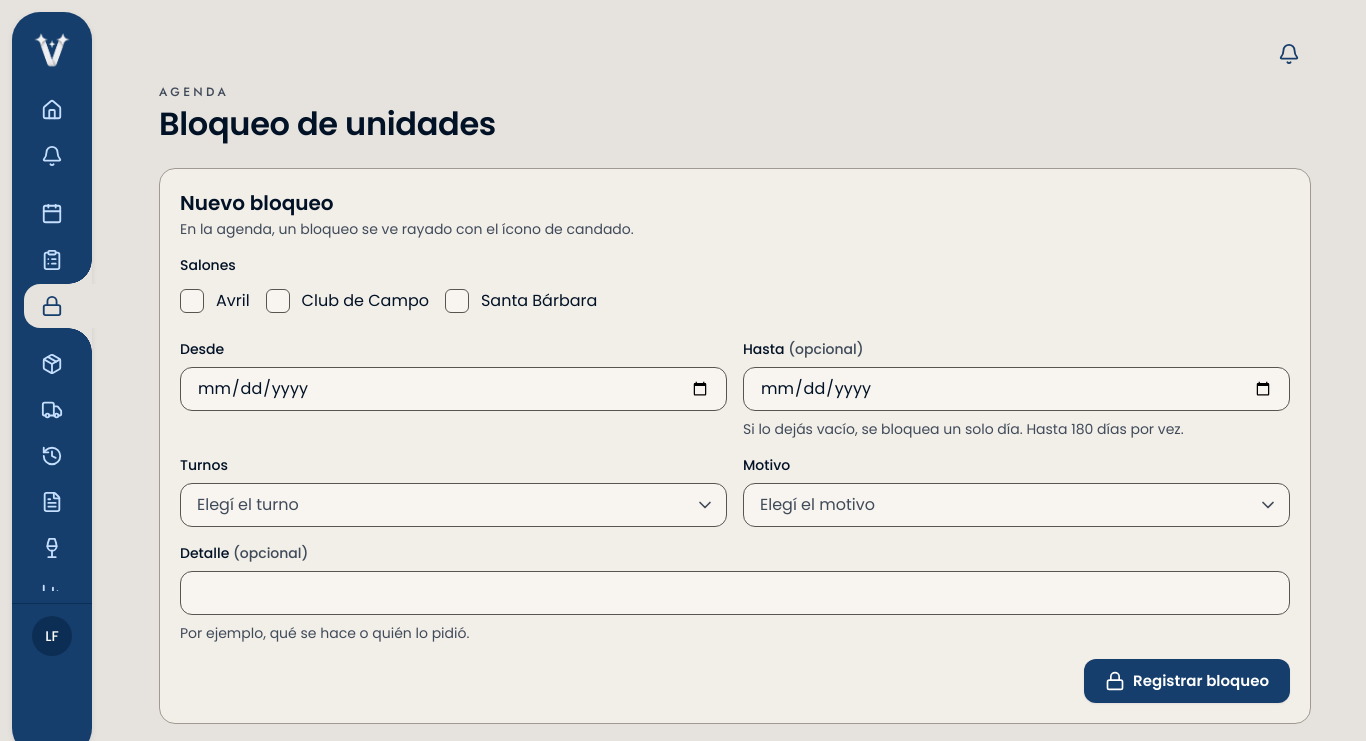
it: UI-21 · bloqueo de unidades › registra el bloqueo, avisa y actualiza la lista
Click the checkbox labelled "Club de Campo".
click(278, 301)  # box [266,289,290,313]
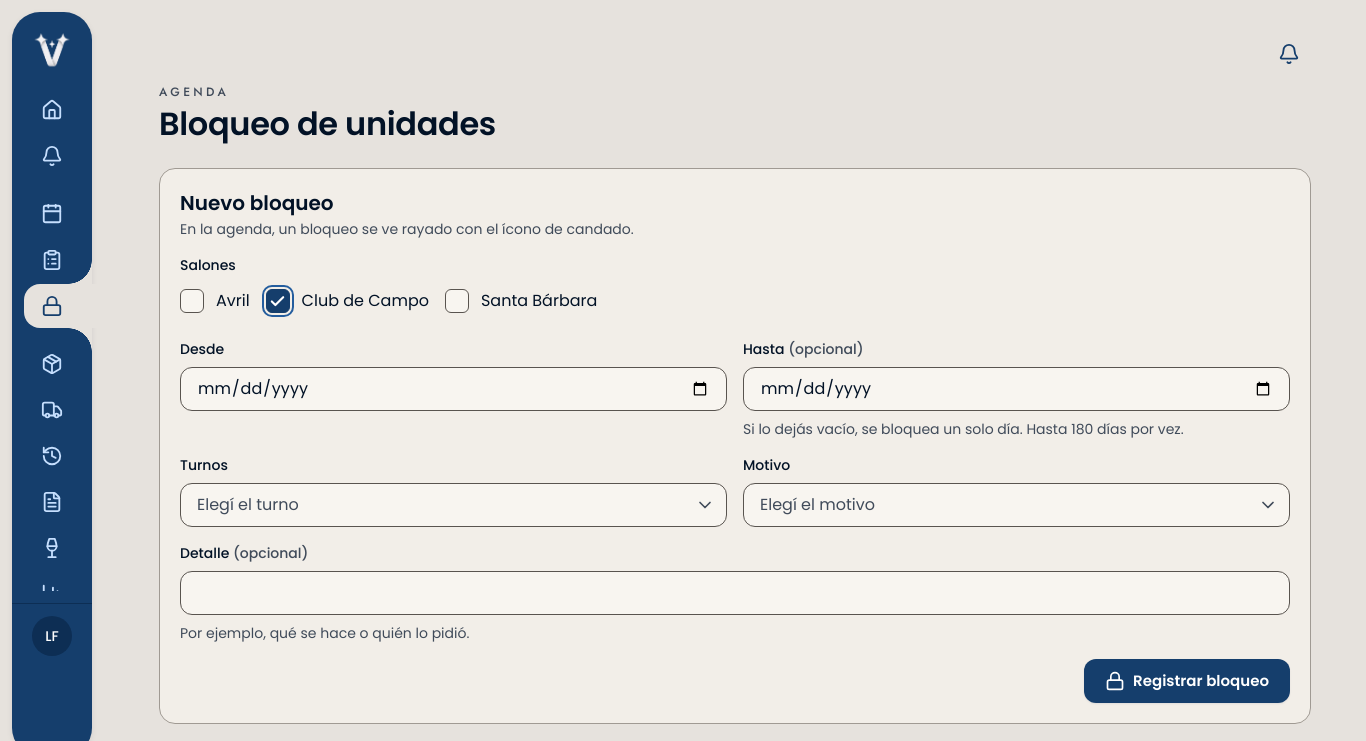
Type "2033-04-04" into the date field labelled "Desde".
click(454, 389); type("2033-04-04")  # box [180,367,727,411]
Type "2033-04-08" into the date field labelled "Hasta (opcional)".
click(1016, 389); type("2033-04-08")  # box [743,367,1290,411]
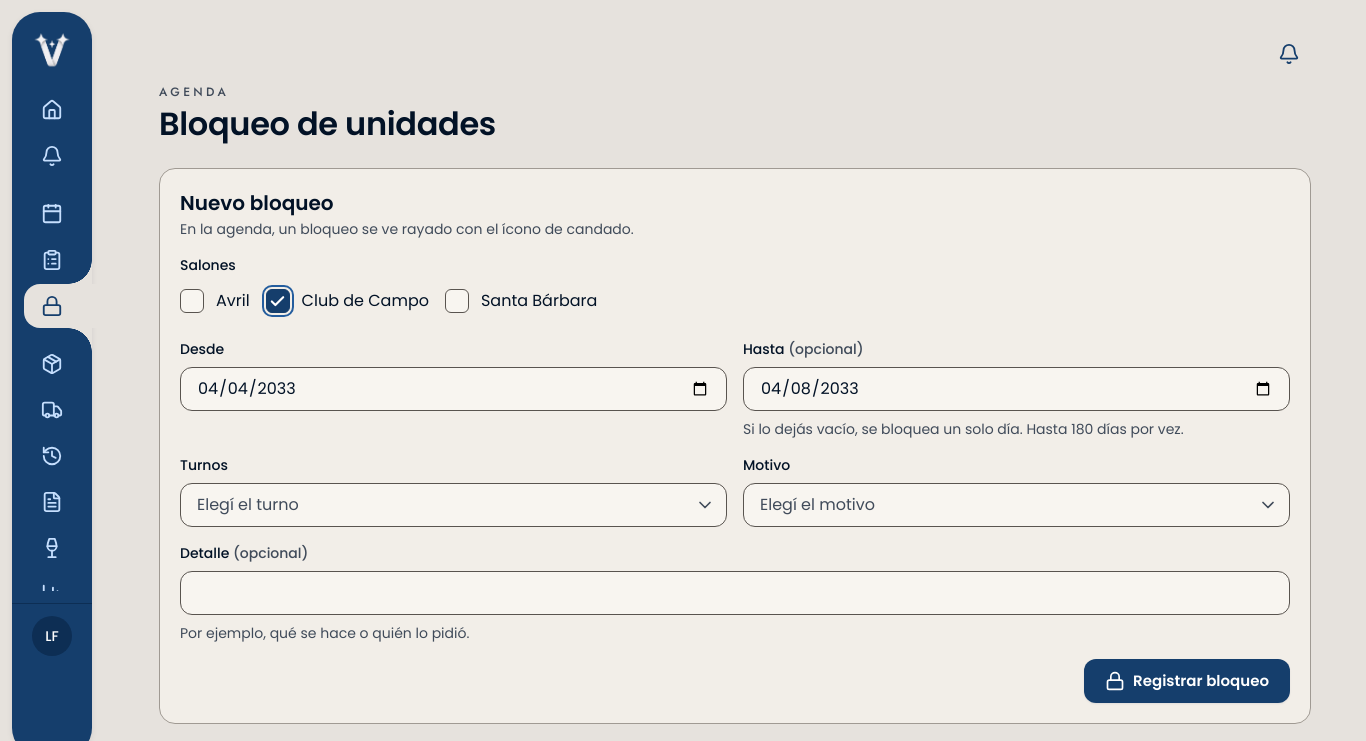
Select "Ambos" in the dropdown labelled "Turnos" at (454, 505), box [180,483,727,527]
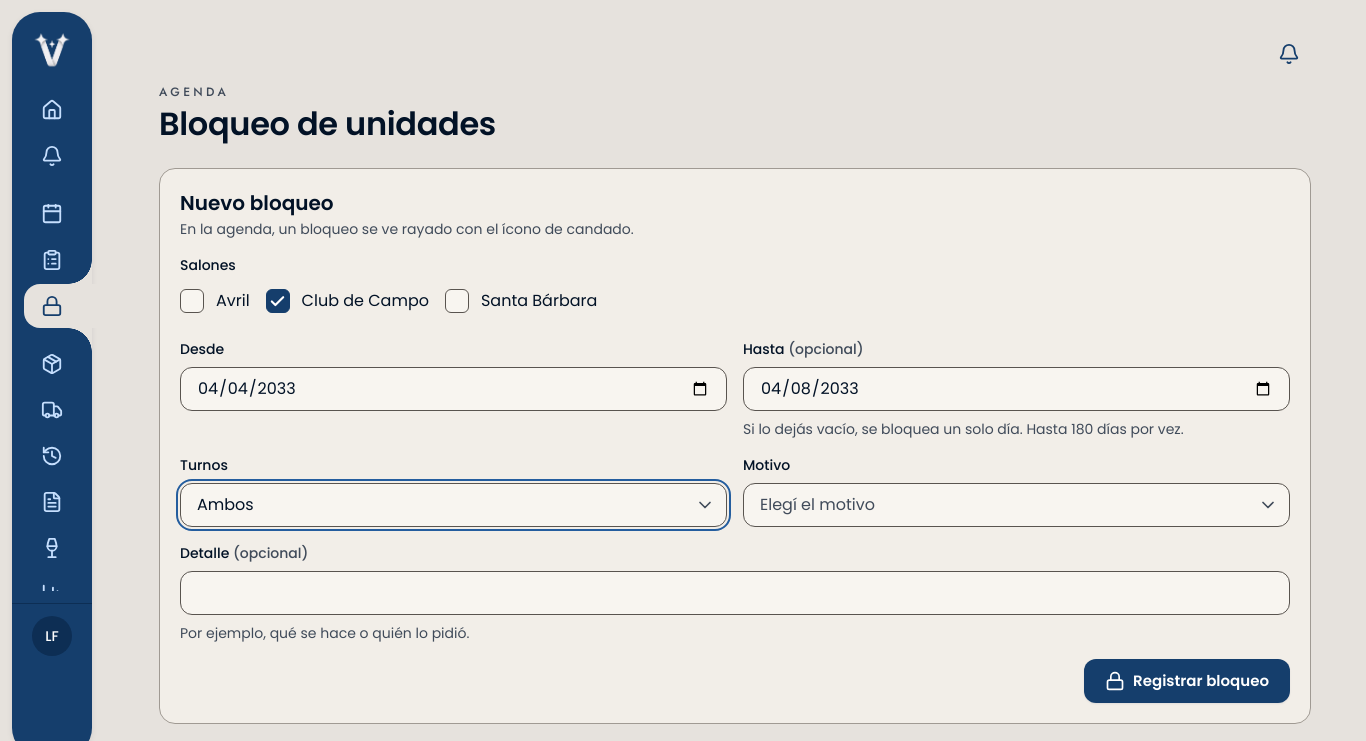
Select "Mantenimiento" in the dropdown labelled "Motivo" at (1016, 505), box [743,483,1290,527]
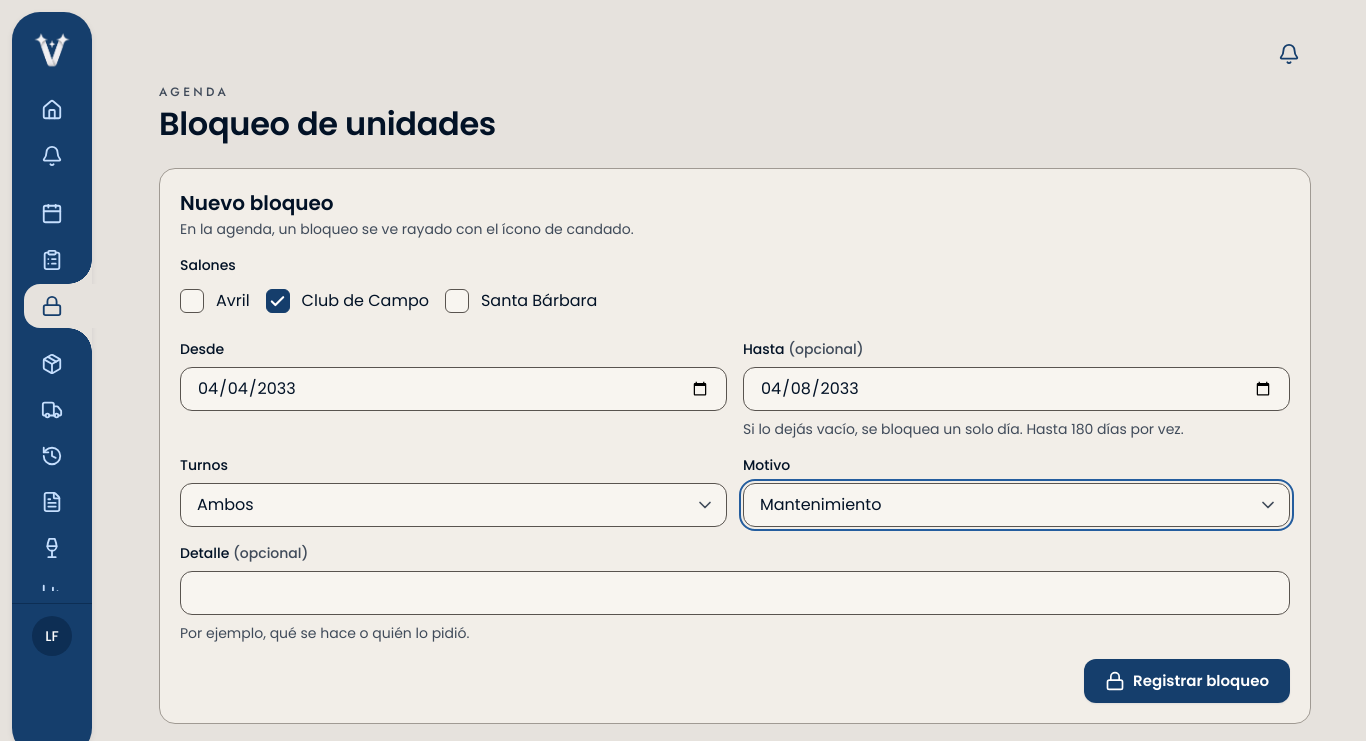
Type "  Pintura  " into the field labelled "Detalle (opcional)".
click(735, 593); type("  Pintura  ")  # box [180,571,1290,615]
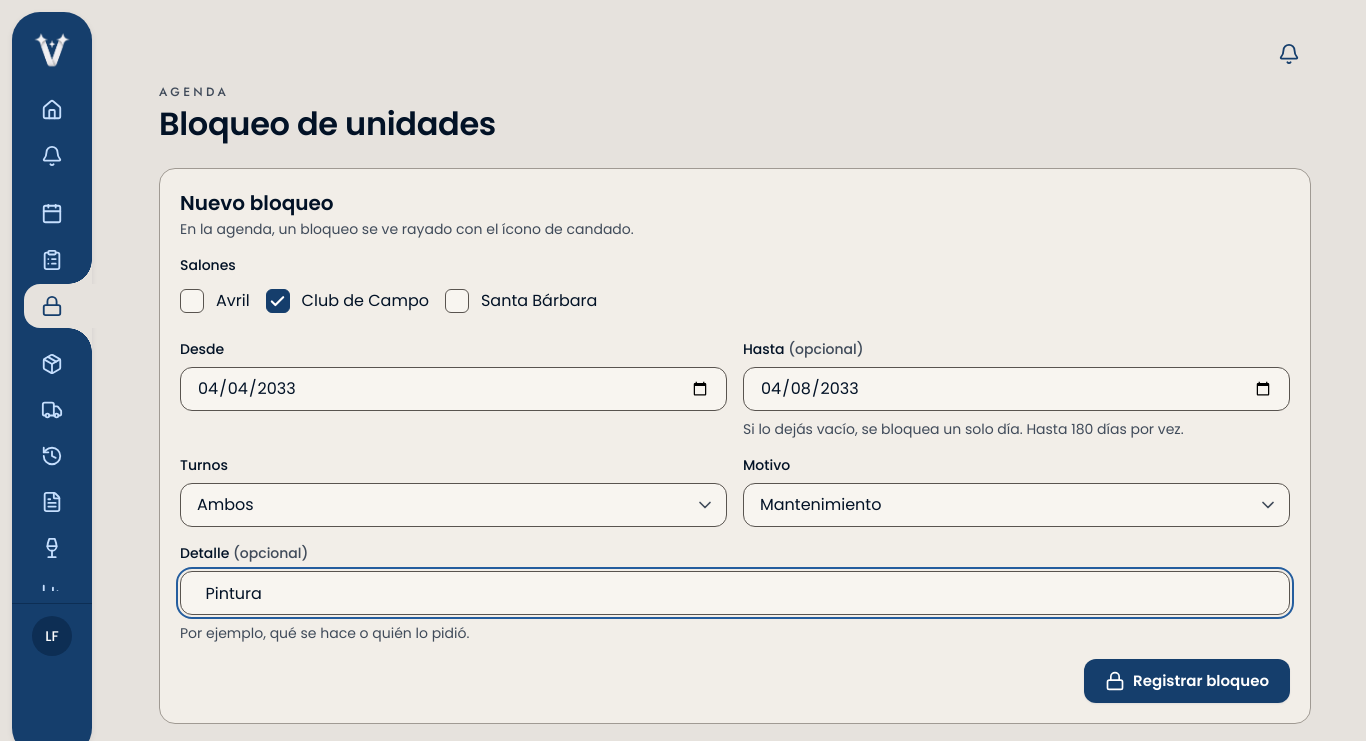
Click the button "Registrar bloqueo".
click(1187, 681)  # box [1084,659,1290,703]
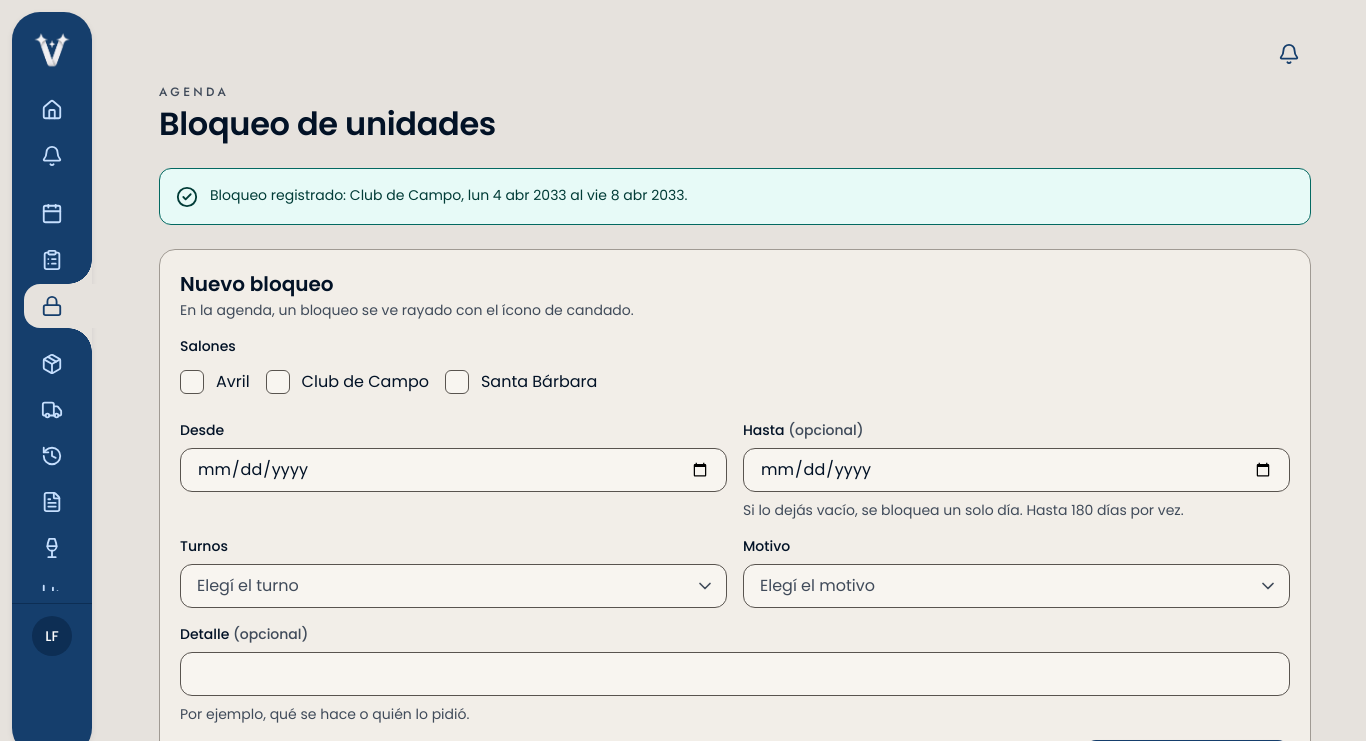
Expected: the checkbox labelled "Club de Campo" is not checked, [266,370,290,394]
Expected: the text "Bloqueo registrado: Club de Campo, lun 4 abr 2033 al vie 8 abr 2033." is shown, [210,185,688,205]
Expected: the date field labelled "Desde" is empty, [180,448,727,492]
